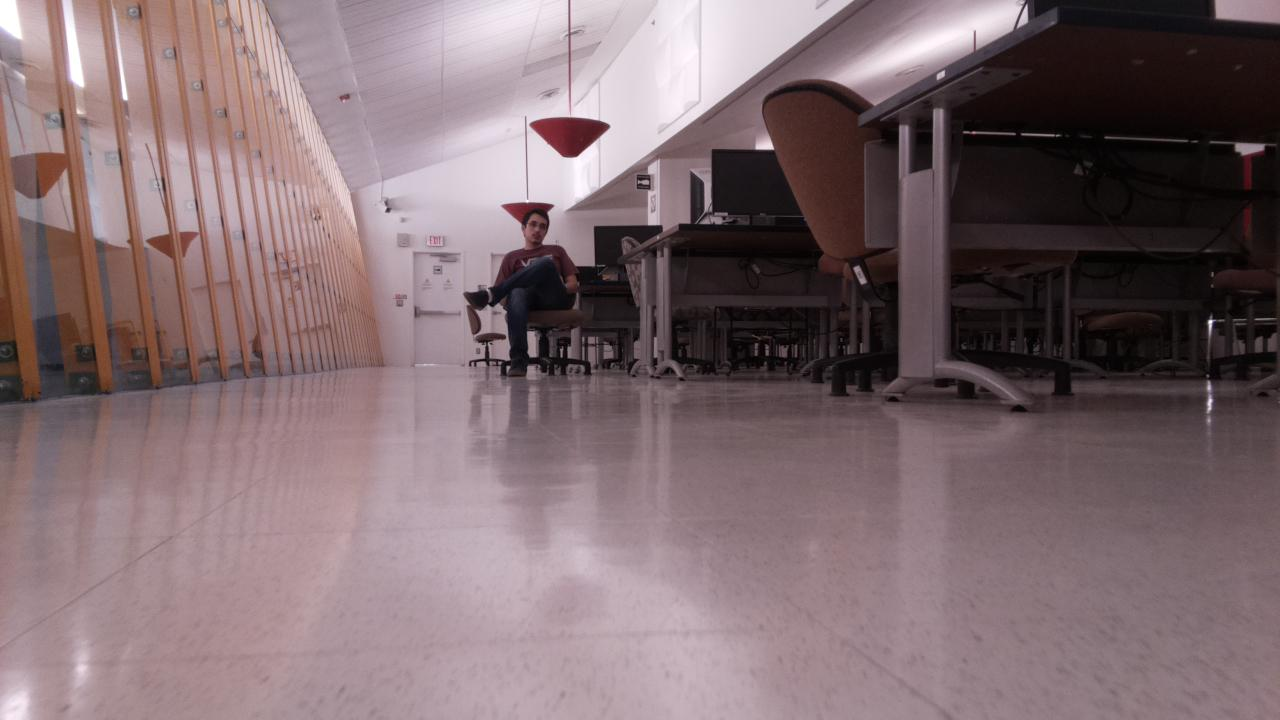door: (415, 254, 460, 365)
person: (463, 209, 581, 376)
sign: (637, 174, 650, 188), (427, 235, 442, 245)
tvmonitor: (713, 148, 803, 216)
